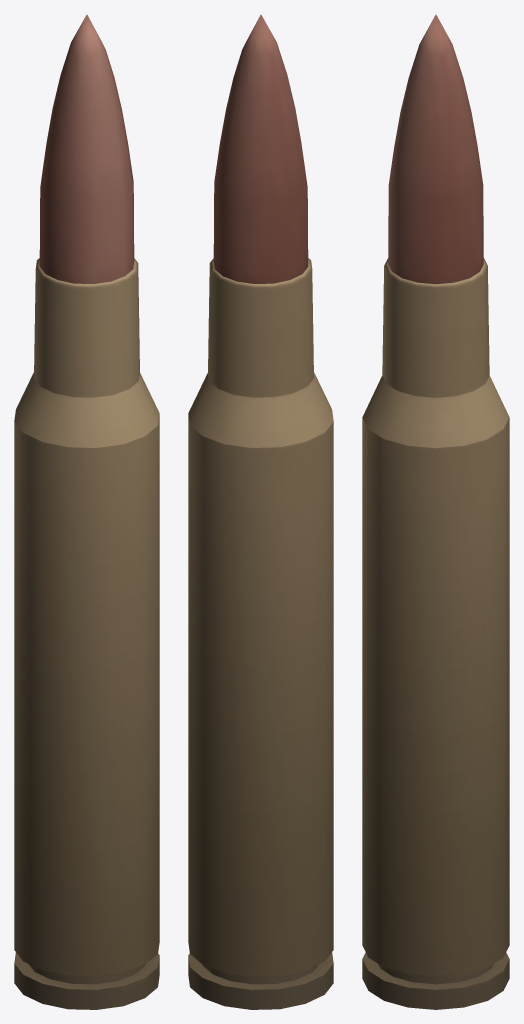
Rendered from SniperBullet.fbx.
3 renders of one model, left to right at view 1: azimuth 30°, elevation 25°; view 2: azimuth 150°, elevation 25°; view 3: azimuth 270°, elevation 25°, orthographic.
Parts seen in each view (by area): view 1: SniperBullet; view 2: SniperBullet; view 3: SniperBullet.
Part boxes in pixels (x1,y1,x2,y2): SniperBullet: [14, 14, 159, 1009]; SniperBullet: [188, 14, 333, 1009]; SniperBullet: [362, 14, 509, 1009].
Bounding box in the file's own units: 0.0164 × 0.119 × 0.0164.
